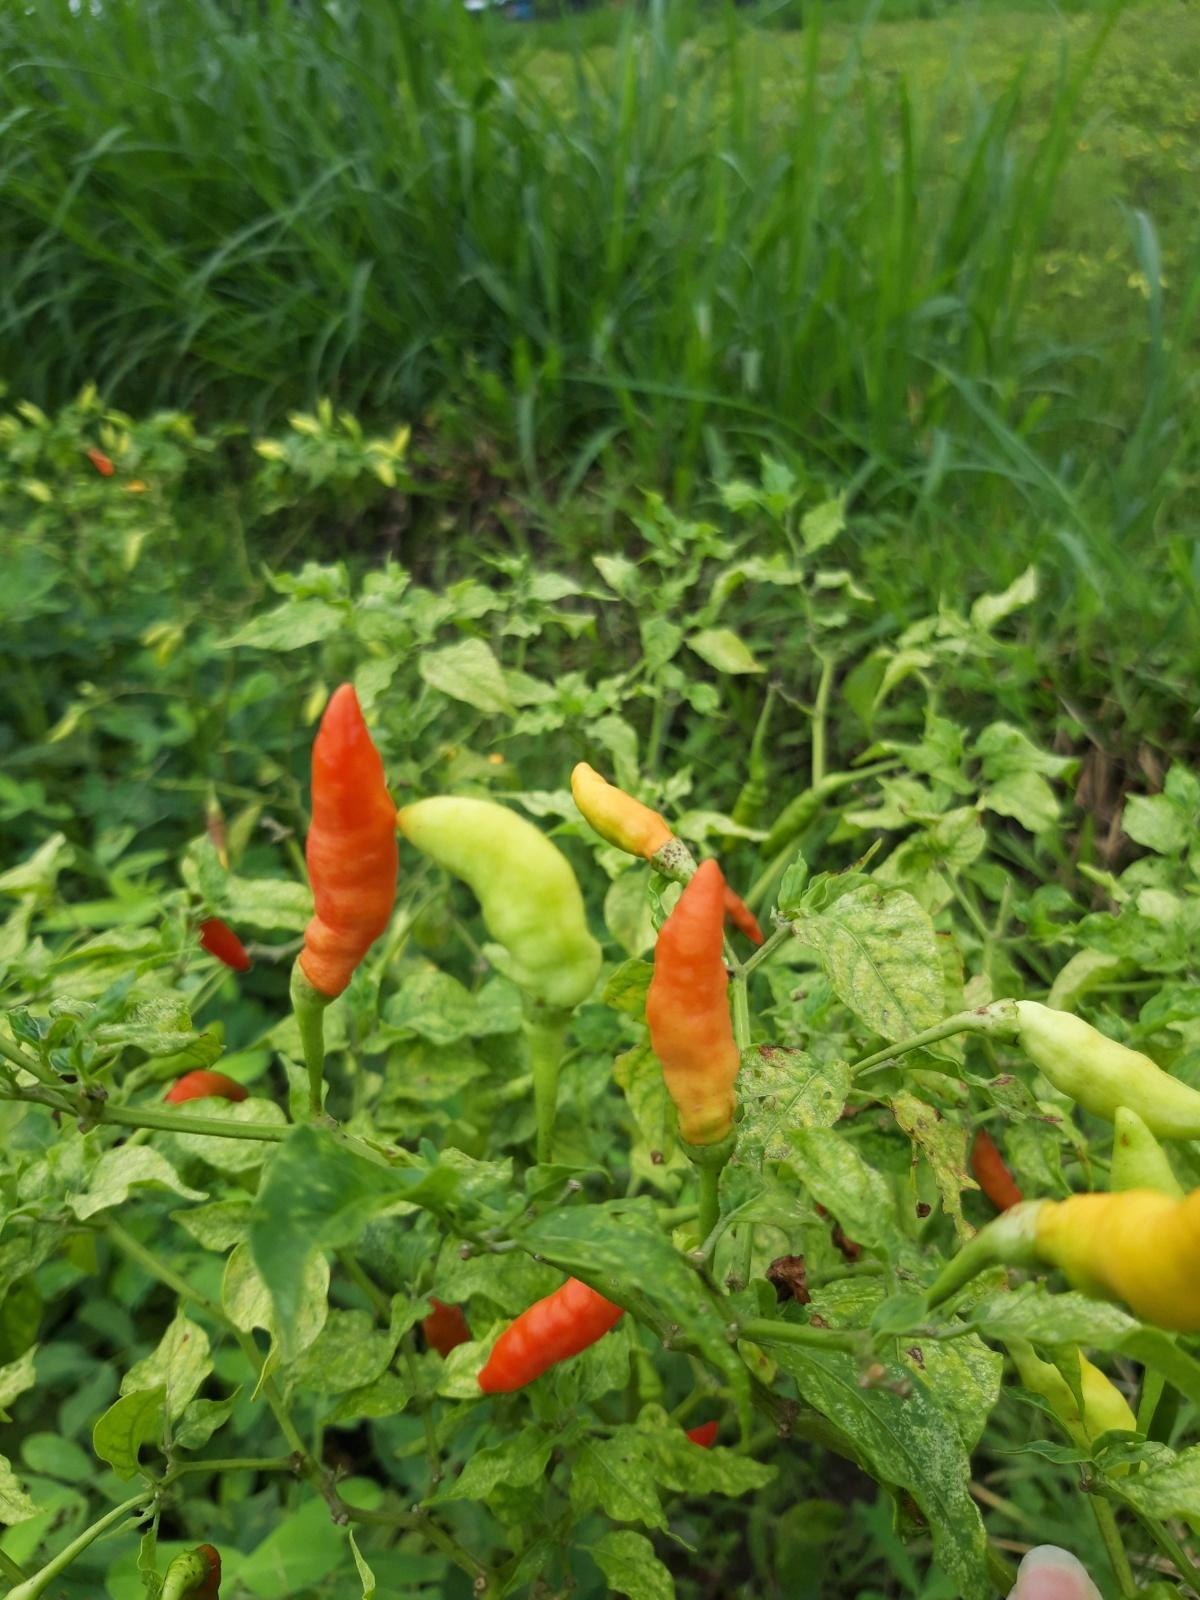cabai_normal: (398, 795, 604, 1015), (296, 682, 403, 996), (645, 857, 742, 1140), (1014, 999, 1200, 1141), (1034, 1186, 1200, 1333), (478, 1264, 626, 1393), (571, 762, 682, 857), (198, 909, 250, 972)
